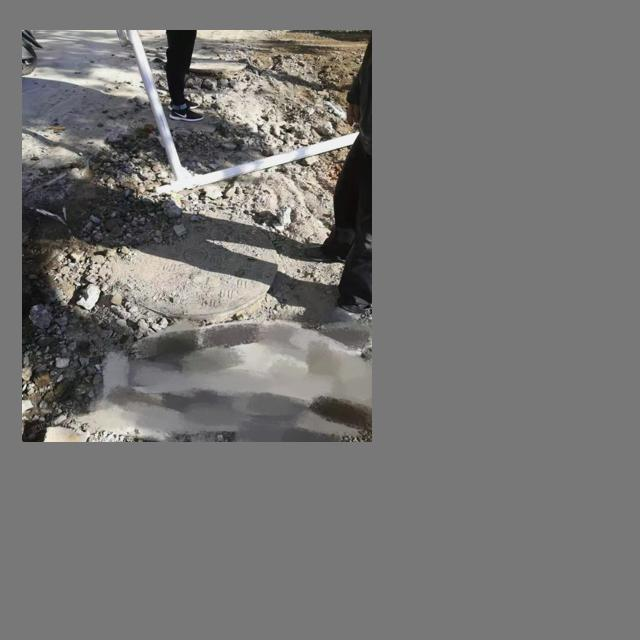circle: (80, 209, 301, 340)
